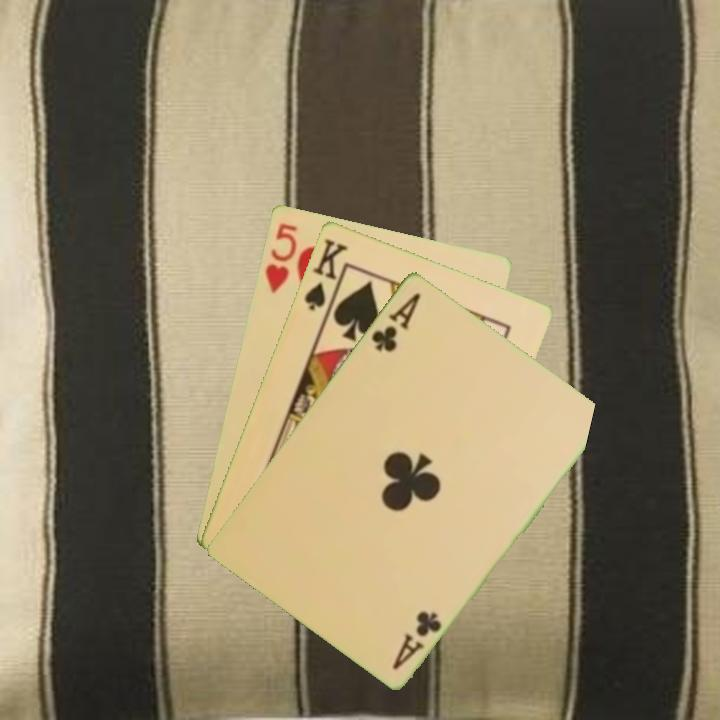5h: (261, 219, 300, 296)
Ac: (367, 288, 424, 355), (388, 606, 445, 673)
Ks: (300, 234, 351, 318)
